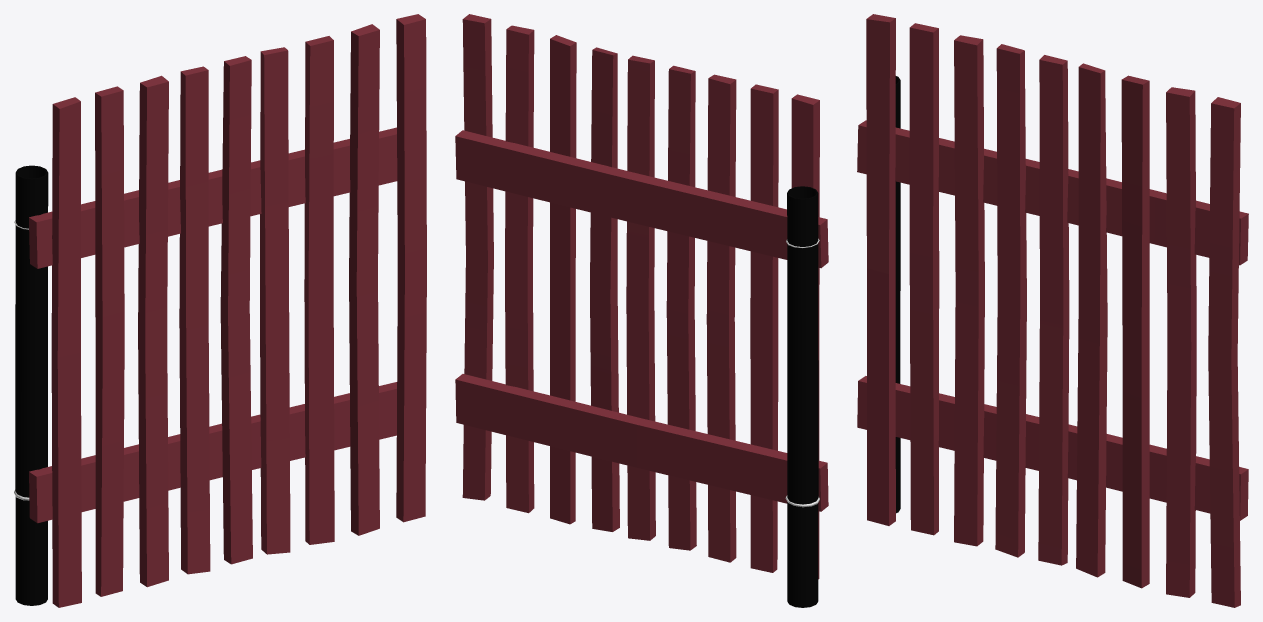
File: Fence1.fbx
3 renders of one model, left to right at view 1: azimuth 30°, elevation 25°; view 2: azimuth 150°, elevation 25°; view 3: azimuth 330°, elevation 25°, orthographic. The views are drawn at different scales.
Visible parts, largest first — view 1: Cube.004; view 2: Cube.004; view 3: Cube.004.
Part boxes in pixels (x1,y1,x2,y2): Cube.004: (14,14,426,607); Cube.004: (455,14,828,607); Cube.004: (857,14,1248,607).
Bounding box in the file's own units: 106 × 133 × 16.27.
